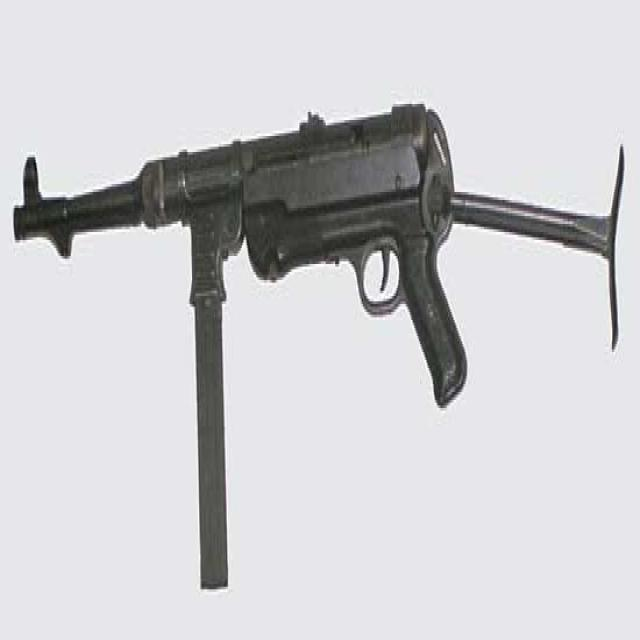Weapon: (14, 112, 625, 597)
